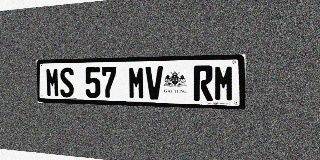5: (85, 67, 101, 98)
7: (101, 67, 117, 99)
M: (214, 65, 234, 102), (128, 66, 145, 99), (45, 68, 60, 97)
R: (193, 65, 213, 101)
S: (59, 67, 74, 98)
V: (145, 66, 163, 100)
